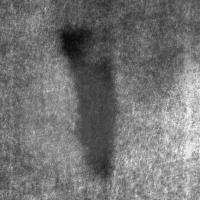patches: (46, 0, 200, 106), (15, 62, 133, 180), (66, 6, 176, 116), (64, 30, 117, 181)
